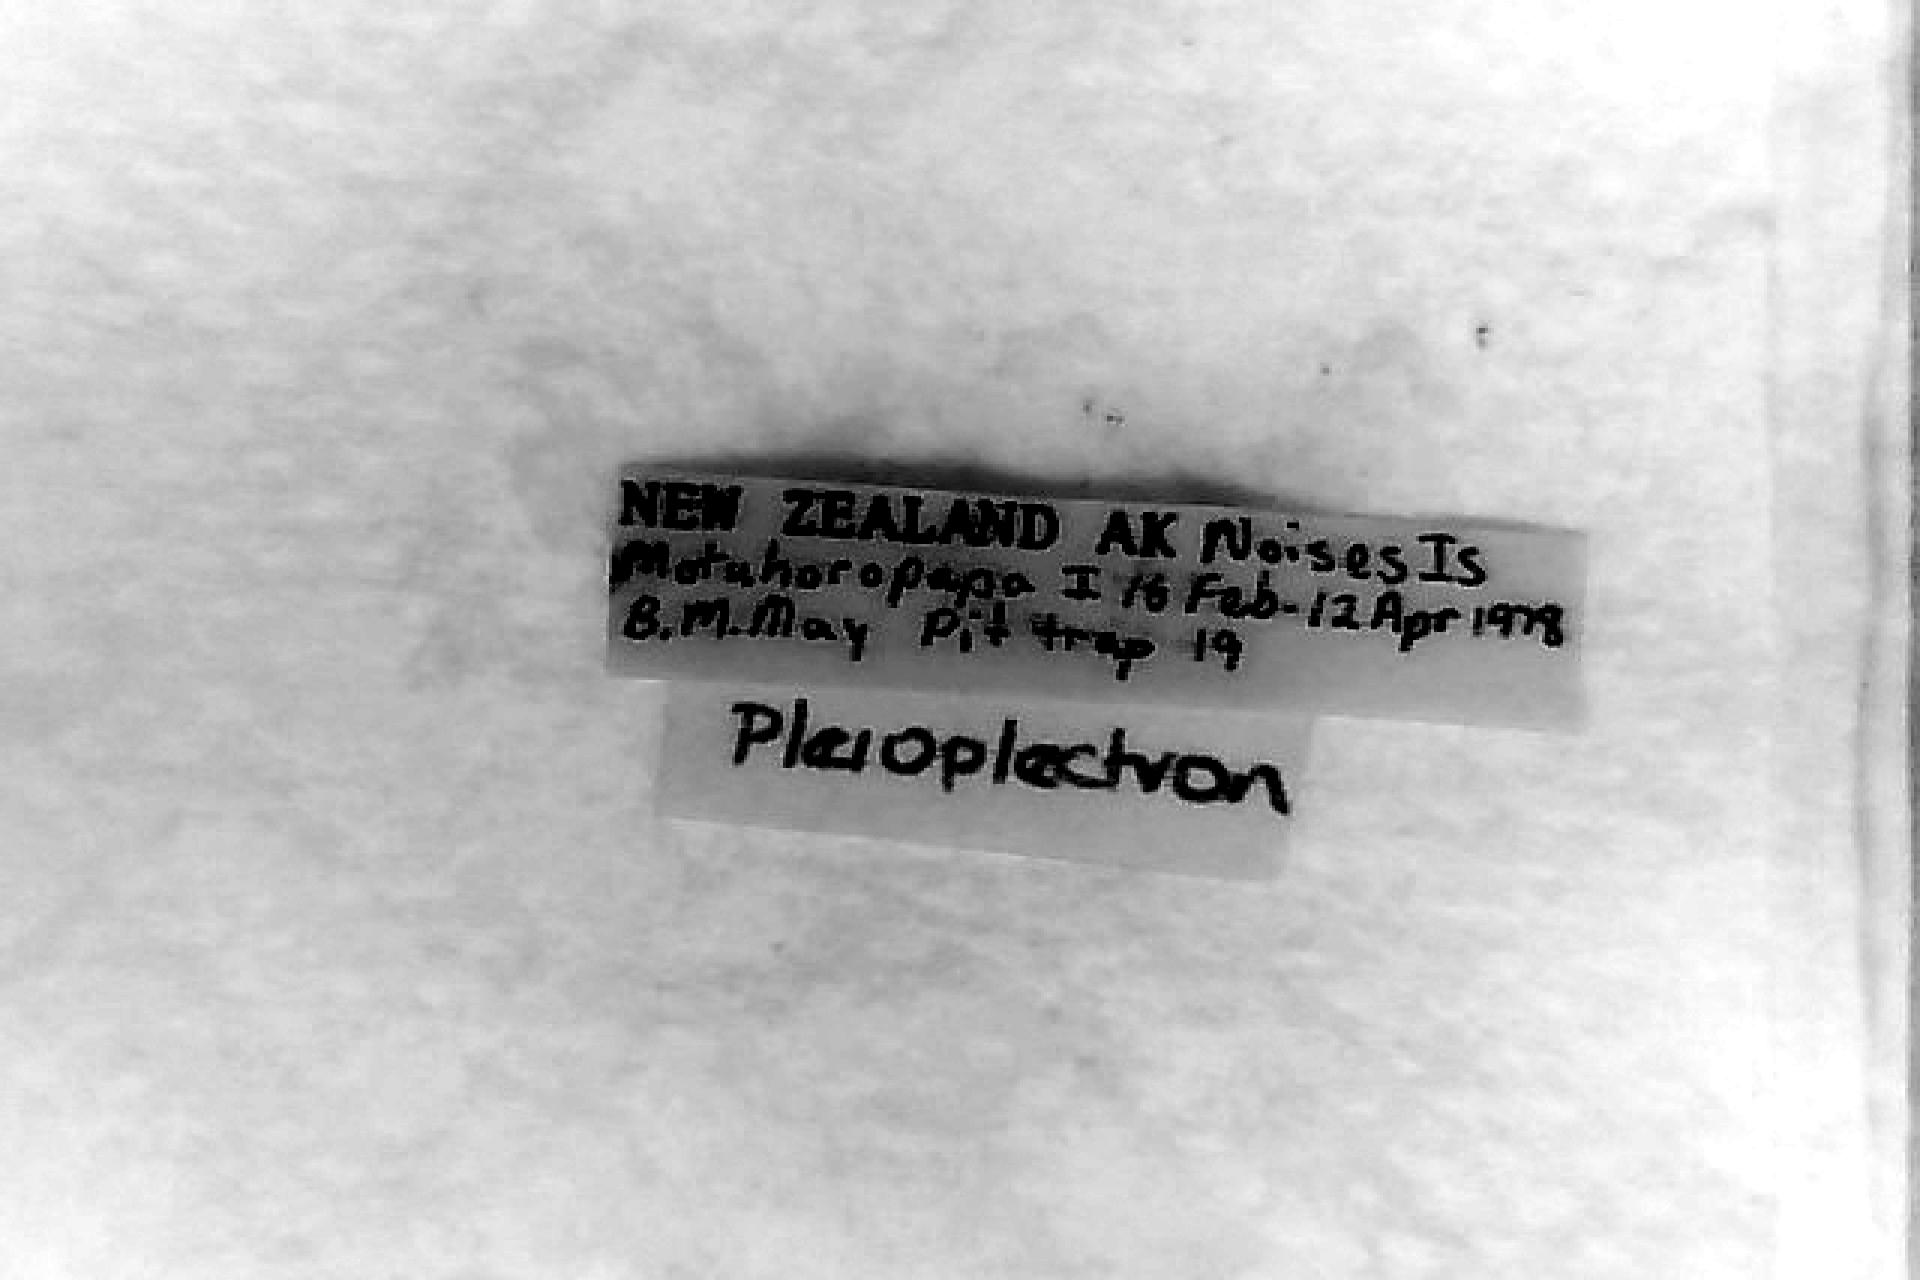hand_label: (660, 689, 1313, 877)
mixed_label: (607, 470, 1583, 726)
